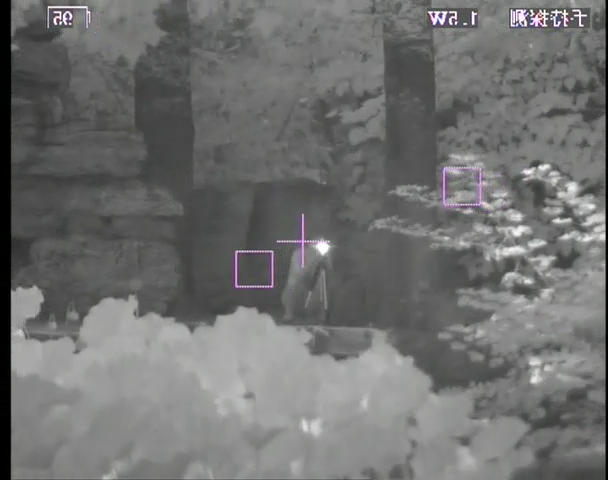my: (314, 240, 331, 257)
